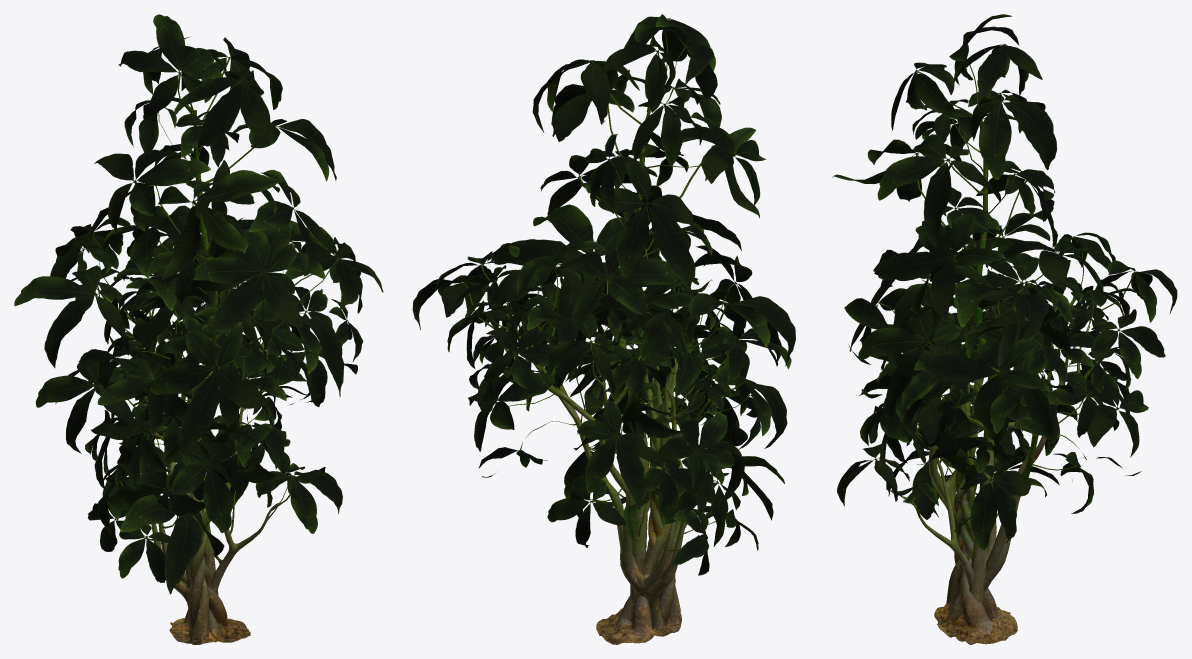
The picture shows the model from 3 angles, left to right: view 1: azimuth 30°, elevation 25°; view 2: azimuth 150°, elevation 25°; view 3: azimuth 270°, elevation 25°; orthographic projection. The views are drawn at different scales.
Visible parts, largest first — view 1: pachira_aquatica_01_leaves_d.001, pachira_aquatica_01_leaves_c.001, pachira_aquatica_01_leaves_a.001, pachira_aquatica_01_leaves_b.001, pachira_aquatica_01_bark_a.001, pachira_aquatica_01_bark_d.001, pachira_aquatica_01_bark_b.001, pachira_aquatica_01_bark_c.001; view 2: pachira_aquatica_01_leaves_d.001, pachira_aquatica_01_leaves_c.001, pachira_aquatica_01_leaves_a.001, pachira_aquatica_01_bark_a.001, pachira_aquatica_01_bark_d.001, pachira_aquatica_01_bark_c.001, pachira_aquatica_01_leaves_b.001; view 3: pachira_aquatica_01_leaves_d.001, pachira_aquatica_01_leaves_c.001, pachira_aquatica_01_leaves_a.001, pachira_aquatica_01_leaves_b.001, pachira_aquatica_01_bark_a.001, pachira_aquatica_01_bark_d.001, pachira_aquatica_01_bark_c.001, pachira_aquatica_01_bark_b.001.
Boxes of the visible parts, x1,y1,x2,y2 form: pachira_aquatica_01_leaves_d.001: (14, 14, 363, 582); pachira_aquatica_01_leaves_c.001: (55, 205, 383, 594); pachira_aquatica_01_leaves_a.001: (101, 217, 327, 469); pachira_aquatica_01_leaves_b.001: (140, 413, 342, 563); pachira_aquatica_01_bark_a.001: (169, 364, 250, 643); pachira_aquatica_01_bark_d.001: (97, 110, 304, 644); pachira_aquatica_01_bark_b.001: (211, 502, 281, 592); pachira_aquatica_01_bark_c.001: (144, 259, 242, 583); pachira_aquatica_01_leaves_d.001: (435, 14, 795, 550); pachira_aquatica_01_leaves_c.001: (412, 261, 784, 575); pachira_aquatica_01_leaves_a.001: (491, 183, 781, 449); pachira_aquatica_01_bark_a.001: (596, 358, 681, 644); pachira_aquatica_01_bark_d.001: (506, 108, 710, 630); pachira_aquatica_01_bark_c.001: (504, 327, 709, 596); pachira_aquatica_01_leaves_b.001: (564, 367, 753, 540); pachira_aquatica_01_leaves_d.001: (832, 14, 1177, 517); pachira_aquatica_01_leaves_c.001: (848, 277, 1165, 519); pachira_aquatica_01_leaves_a.001: (844, 223, 1067, 431); pachira_aquatica_01_leaves_b.001: (837, 403, 1046, 560); pachira_aquatica_01_bark_a.001: (934, 379, 1017, 644); pachira_aquatica_01_bark_d.001: (931, 122, 1075, 621); pachira_aquatica_01_bark_c.001: (928, 327, 1096, 590); pachira_aquatica_01_bark_b.001: (903, 446, 973, 585).
Bounding box in the file's own units: 1.11 × 1.9 × 0.997.
2 materials, 2 textured.
